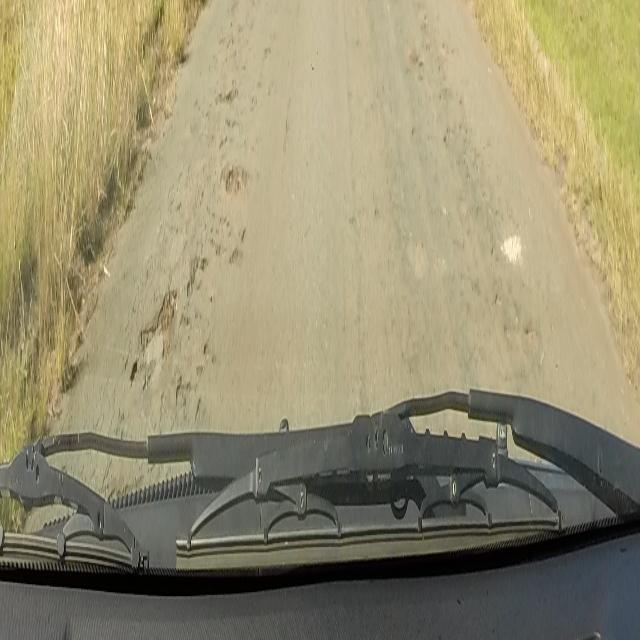pothole: (133, 224, 249, 418), (225, 157, 248, 199)
